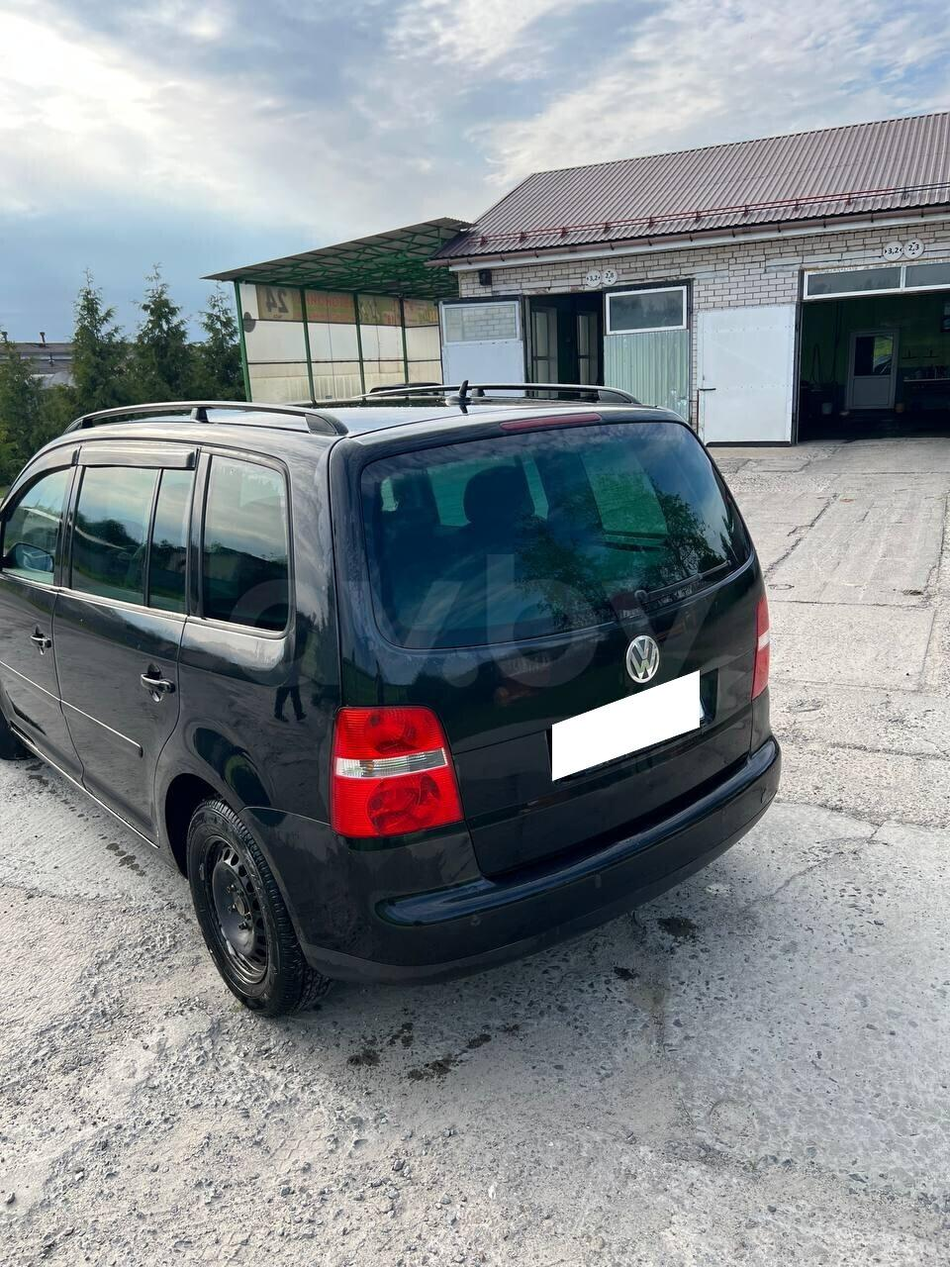Touran_2003-2006: (0, 381, 795, 1031)
